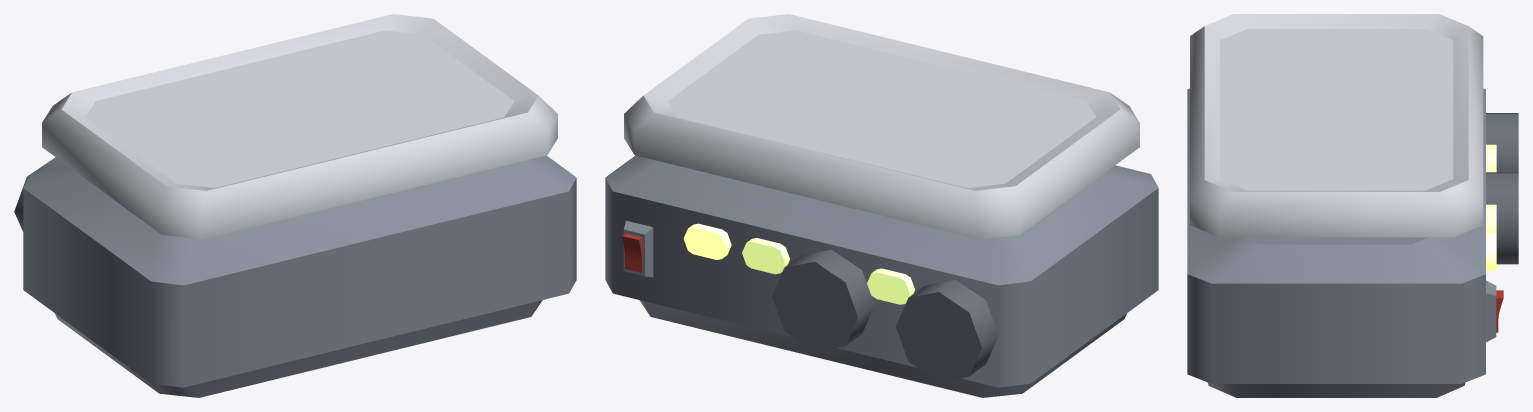
File: machine_hot_plate.glb
3 views of the same model, side by side, from view 1: azimuth 30°, elevation 25°; view 2: azimuth 150°, elevation 25°; view 3: azimuth 270°, elevation 25° (orthographic).
Visible parts, largest first — view 1: machine_hot_plate, machine_hot_plate_knobs.003; view 2: machine_hot_plate, machine_hot_plate_knobs, machine_hot_plate_knobs.003, machine_hot_plate_switch; view 3: machine_hot_plate, machine_hot_plate_knobs, machine_hot_plate_knobs.003.
Part boxes in pixels (x1,y1,x2,y2): machine_hot_plate: (23,14,576,397); machine_hot_plate_knobs.003: (14,157,66,231); machine_hot_plate: (605,14,1158,397); machine_hot_plate_knobs: (772,249,874,351); machine_hot_plate_knobs.003: (896,280,998,382); machine_hot_plate_switch: (622,233,642,272); machine_hot_plate: (1187,14,1496,397); machine_hot_plate_knobs: (1486,172,1518,264); machine_hot_plate_knobs.003: (1486,113,1518,172).
Size of the model in its own units: 0.4085 by 0.19 by 0.2809.
Materials: 2 (1 with a texture image).
